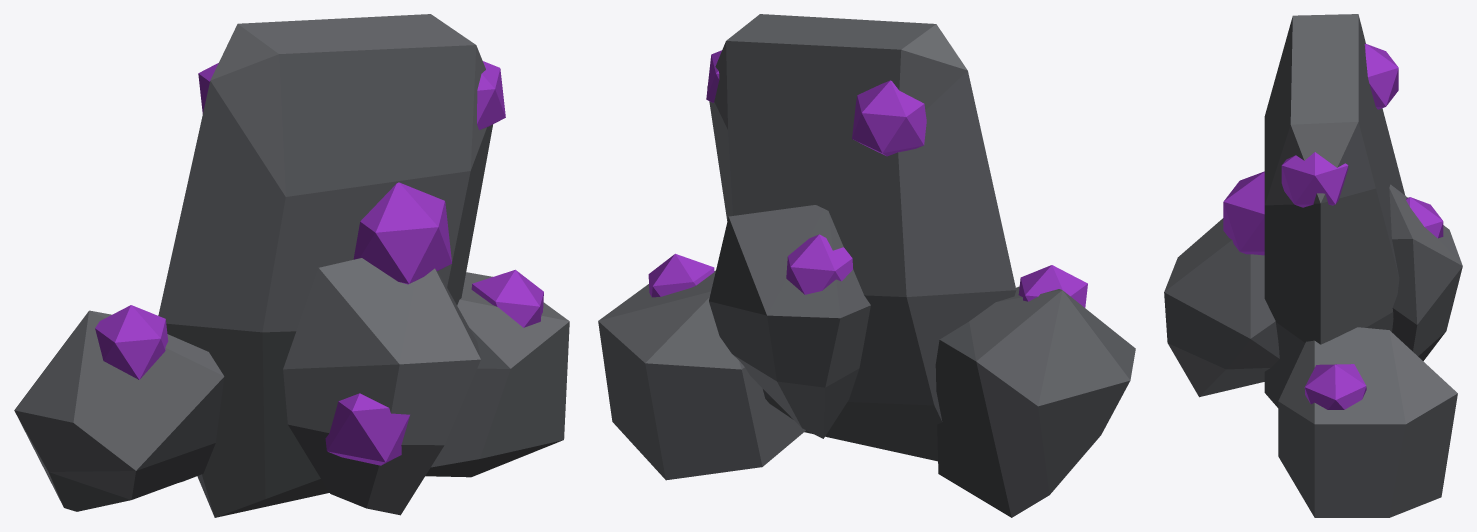
File: Magnatite Ore.fbx
3 renders of one model, left to right at view 1: azimuth 30°, elevation 25°; view 2: azimuth 150°, elevation 25°; view 3: azimuth 270°, elevation 25°, orthographic. The views are drawn at different scales.
Visible parts, largest first — view 1: Cube.007; view 2: Cube.007; view 3: Cube.007.
Boxes of the visible parts, x1,y1,x2,y2 form: Cube.007: (14,14,569,517); Cube.007: (598,14,1135,517); Cube.007: (1164,14,1462,517).
Size of the model in its own units: 89.04 by 76.52 by 51.81.
